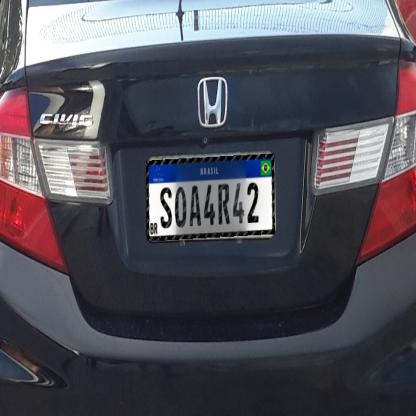PlacaM: (146, 154, 275, 240)
